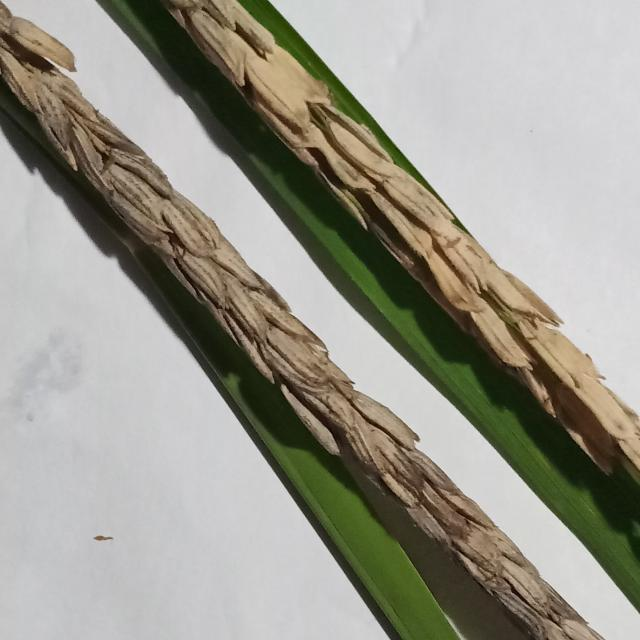Neck_Blast: (0, 10, 604, 640), (153, 0, 640, 493)
